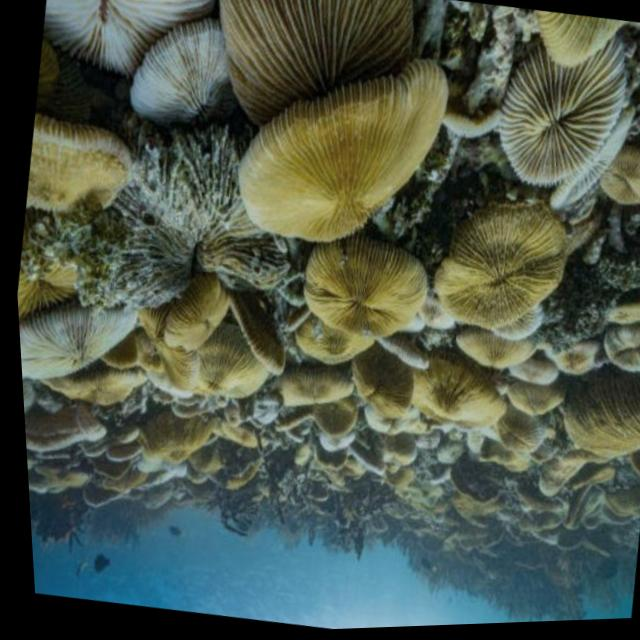Bleached Coral: (28, 0, 240, 146), (14, 295, 129, 402)
Healthy Coral: (159, 0, 640, 460), (18, 125, 140, 233), (126, 404, 215, 475)
